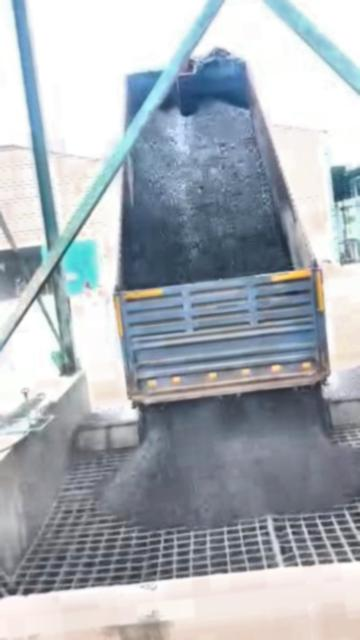gravel: (101, 390, 360, 530), (124, 100, 290, 284), (326, 362, 360, 402)
